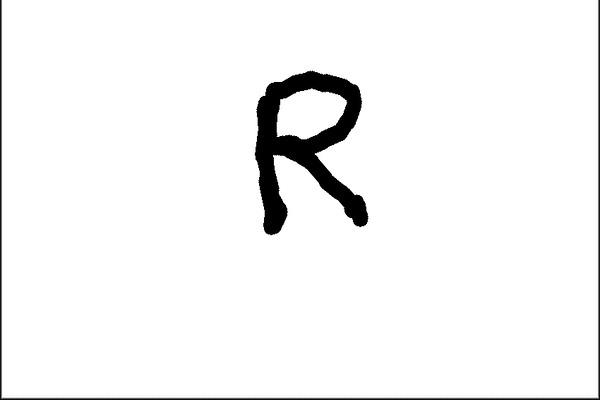R: (237, 57, 382, 235)
